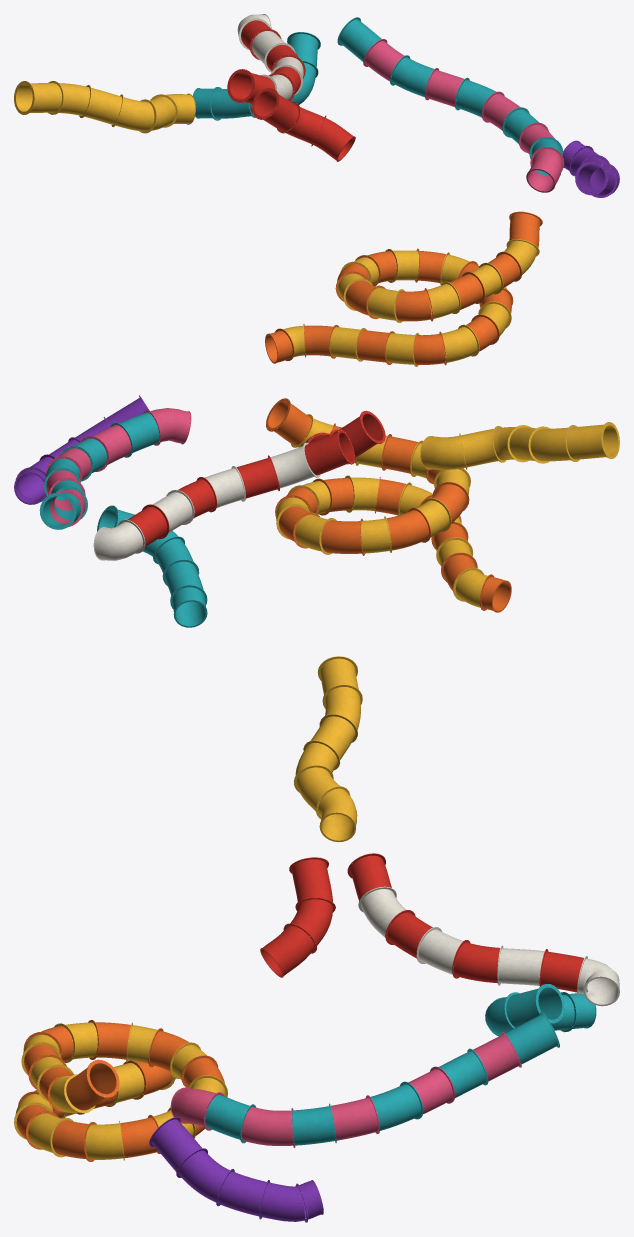
File: inseguimento_A_tubi.glb
The picture shows the model from 3 angles, top to bottom: view 1: azimuth 30°, elevation 25°; view 2: azimuth 150°, elevation 25°; view 3: azimuth 270°, elevation 25°; orthographic projection. The views are drawn at different scales.
Visible parts, largest first — view 1: ins_A_tubo_3, ins_A_tubo_2, ins_A_tubo_0, ins_A_tubo_1, ins_A_scolo_0, ins_A_scolo_1, ins_A_scolo_2; view 2: ins_A_tubo_3, ins_A_tubo_1, ins_A_tubo_2, ins_A_tubo_0, ins_A_scolo_1, ins_A_scolo_2, ins_A_scolo_0; view 3: ins_A_tubo_3, ins_A_tubo_2, ins_A_tubo_1, ins_A_tubo_0, ins_A_scolo_2, ins_A_scolo_0, ins_A_scolo_1.
Boxes of the visible parts, x1,y1,x2,y2 form: ins_A_tubo_3: (265,211,542,366); ins_A_tubo_2: (337,17,564,192); ins_A_tubo_0: (14,81,195,133); ins_A_tubo_1: (227,14,305,103); ins_A_scolo_0: (251,88,355,161); ins_A_scolo_1: (192,32,320,120); ins_A_scolo_2: (562,140,619,197); ins_A_tubo_3: (266,398,511,612); ins_A_tubo_1: (93,429,354,560); ins_A_tubo_2: (39,408,191,529); ins_A_tubo_0: (420,422,619,469); ins_A_scolo_1: (97,505,207,627); ins_A_scolo_2: (14,395,149,504); ins_A_scolo_0: (305,410,385,464); ins_A_tubo_3: (14,1020,227,1161); ins_A_tubo_2: (170,1011,559,1147); ins_A_tubo_1: (347,853,619,1006); ins_A_tubo_0: (294,656,362,842); ins_A_scolo_2: (149,1117,323,1222); ins_A_scolo_0: (260,857,335,977); ins_A_scolo_1: (485,984,596,1036).
Size of the model in its own units: 37.21 by 17.03 by 29.41.
Materials: 8 (8 with a texture image).
